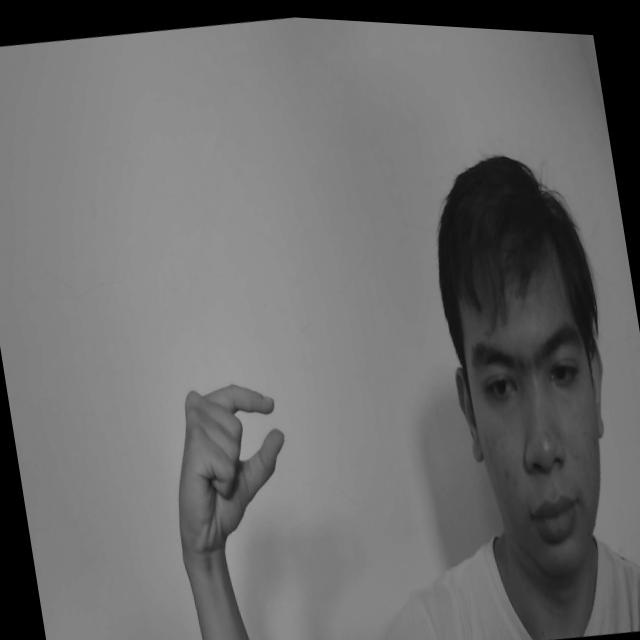G: (156, 368, 303, 553)
